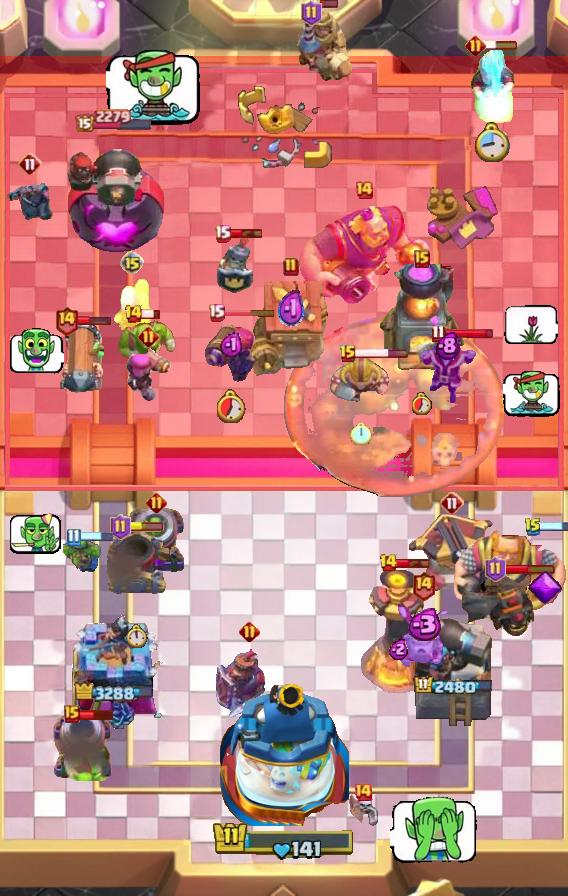archer-evolution: (462, 572, 560, 642)
battle-healer: (58, 317, 108, 405)
battle-ram: (5, 174, 55, 228)
clock: (212, 820, 356, 862)
electro-dragon: (360, 567, 438, 693)
electro-spirit: (403, 608, 443, 641), (279, 289, 306, 330), (436, 332, 460, 361), (220, 331, 242, 357), (389, 638, 409, 660)
elixir: (474, 122, 510, 162), (218, 389, 247, 423), (350, 422, 371, 446), (128, 624, 149, 648), (412, 392, 432, 416)
elixir-golem-big: (213, 638, 285, 722)
emote: (443, 328, 494, 341), (504, 563, 557, 575), (355, 348, 409, 359), (77, 707, 114, 721), (222, 307, 276, 316), (483, 39, 519, 51), (228, 227, 264, 239), (78, 531, 114, 543), (395, 557, 431, 569), (76, 315, 112, 326), (128, 522, 164, 532), (540, 521, 568, 533), (141, 308, 161, 320), (320, 0, 340, 8)
flying-machine: (115, 316, 177, 376)
giant-skeleton: (452, 525, 568, 625)
giant-snowball: (63, 534, 105, 574)
goblin-cage: (124, 505, 188, 575), (51, 711, 115, 781)
goblin-giant: (329, 355, 391, 403)
heal-spirit: (348, 793, 378, 827)
hunter: (378, 264, 466, 374)
king-tower: (219, 678, 349, 826)
lava-pup: (408, 513, 496, 595)
lightning: (296, 205, 432, 305)
lumberjack: (417, 330, 479, 406)
mega-minion: (203, 309, 259, 385)
mini-pekka: (393, 604, 453, 670)
mortar: (467, 48, 517, 124)
musketeer: (106, 530, 168, 598)
phoenix-egg: (284, 317, 504, 498)
princess: (209, 234, 255, 296)
queen-tower: (65, 614, 162, 730)
ram-rider: (293, 2, 355, 84)
selected: (74, 108, 154, 132), (414, 675, 495, 697), (75, 684, 153, 705)
skeleton: (106, 50, 202, 126), (390, 794, 478, 864), (504, 371, 561, 417), (8, 328, 63, 374), (9, 509, 63, 555), (504, 304, 558, 343)
skeleton-king-skill: (527, 570, 562, 606)
sparky: (248, 280, 334, 378)
text: (53, 305, 78, 336), (412, 571, 437, 602), (18, 152, 42, 176), (120, 251, 144, 275), (440, 491, 464, 515), (302, 0, 323, 26), (110, 514, 131, 540), (485, 556, 506, 582), (137, 325, 158, 347), (146, 491, 167, 513), (240, 621, 261, 643), (465, 35, 486, 56), (354, 180, 374, 200), (353, 782, 373, 802), (124, 304, 143, 324), (379, 553, 398, 573), (339, 344, 357, 364), (524, 517, 542, 537), (213, 225, 231, 244), (208, 302, 225, 321), (283, 257, 299, 277), (414, 250, 430, 268), (64, 705, 80, 723), (67, 528, 82, 547), (431, 325, 446, 343)
tombstone: (125, 347, 171, 403), (111, 276, 153, 334)
tower-bar: (62, 138, 166, 256), (410, 611, 496, 731)
